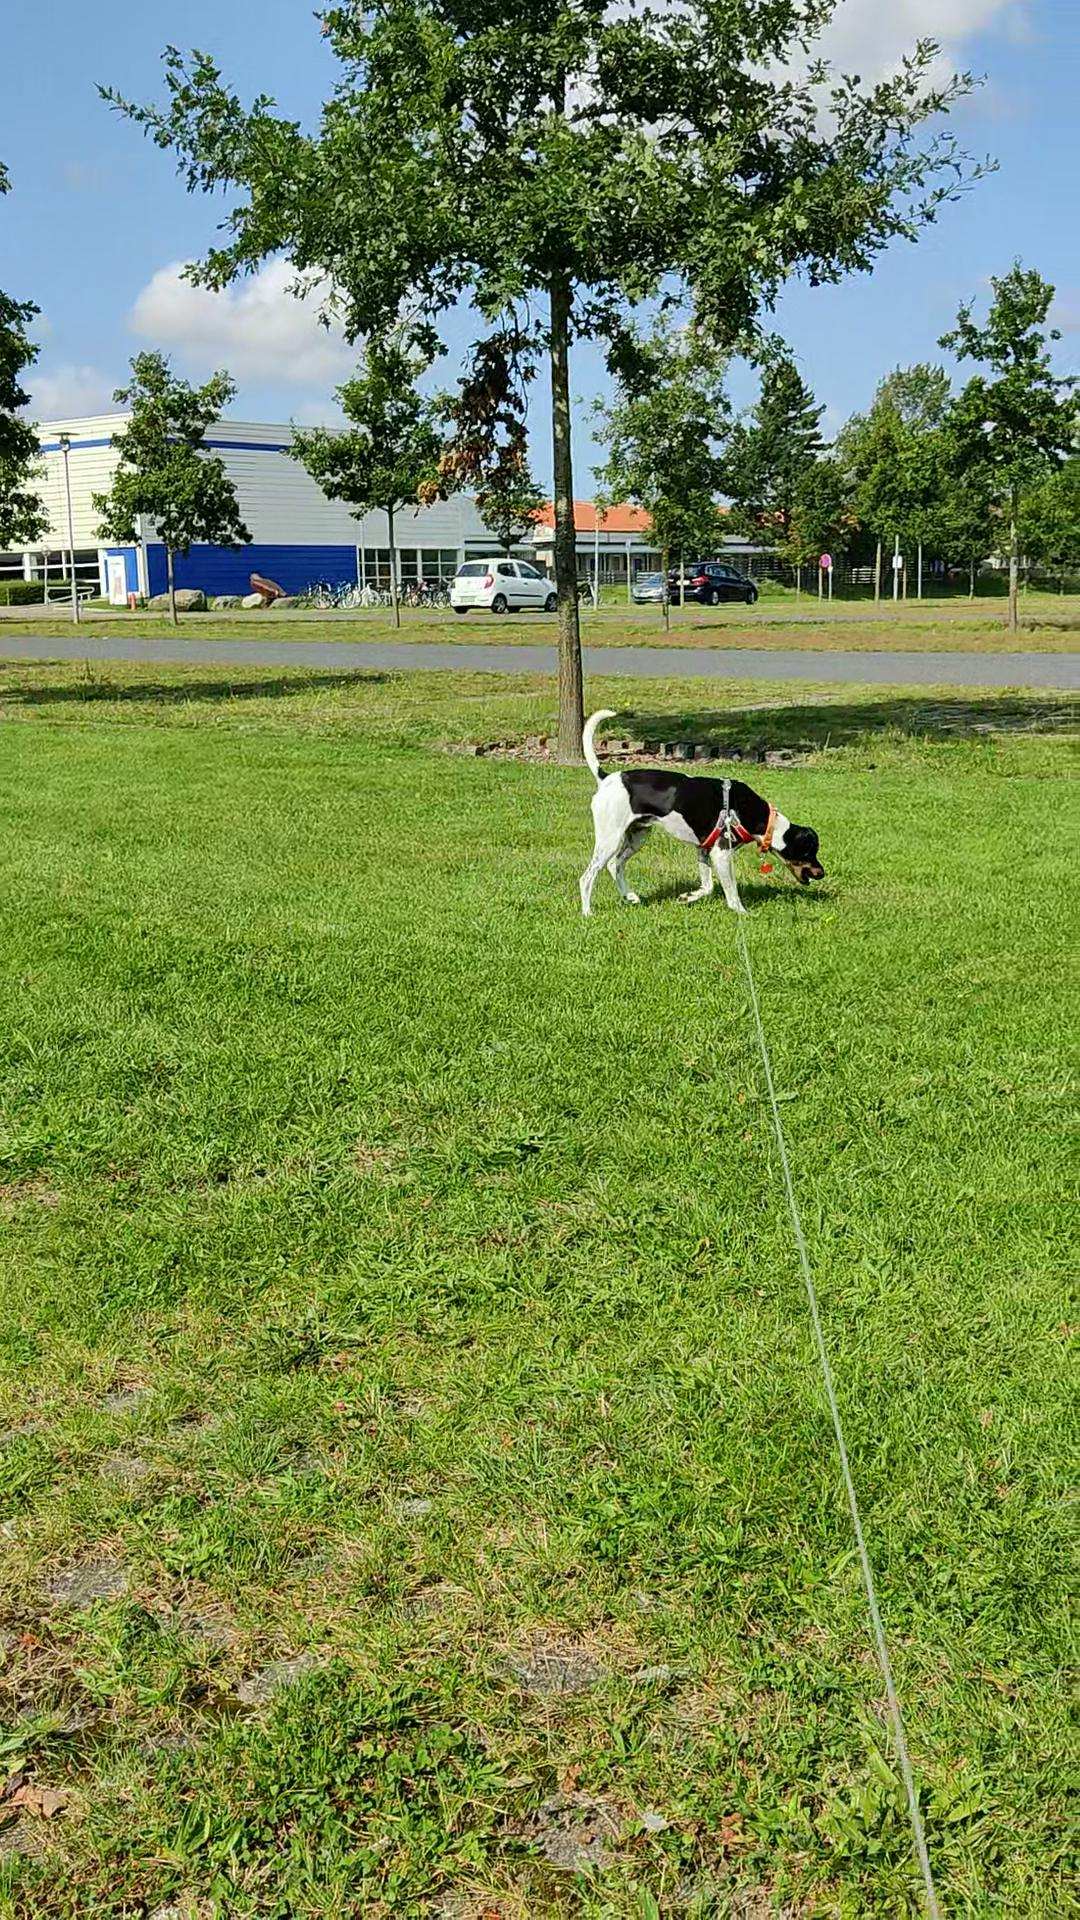Dog: (568, 703, 832, 919)
